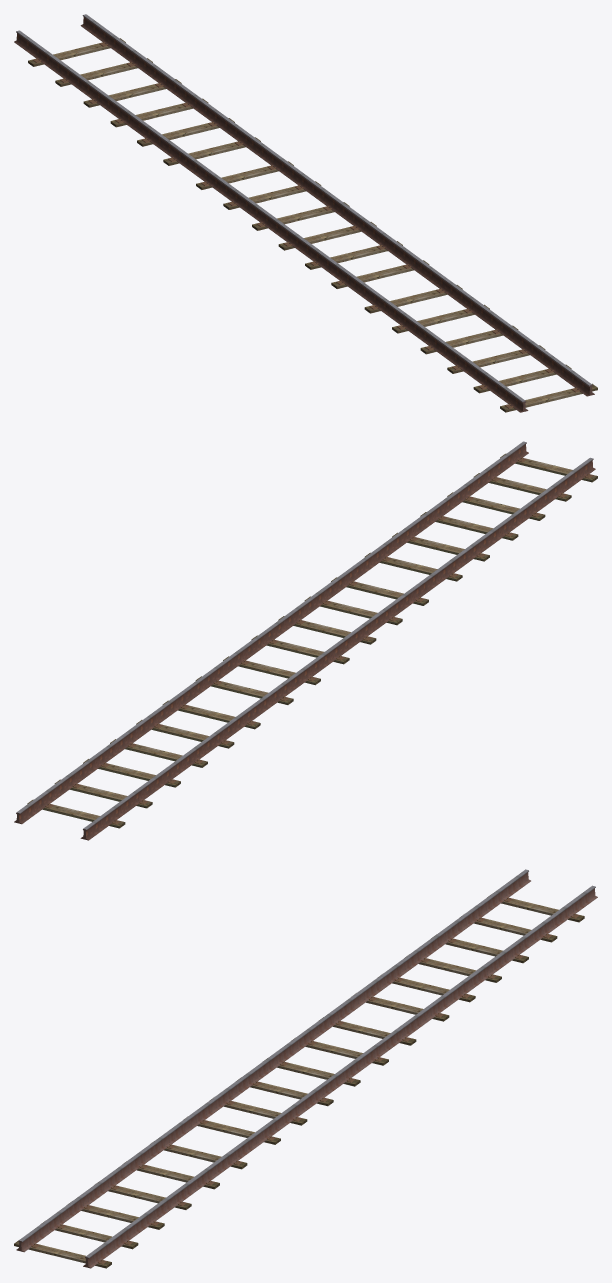
The model's file is track.obj.
3 renders of one model, top to bottom at view 1: azimuth 30°, elevation 25°; view 2: azimuth 150°, elevation 25°; view 3: azimuth 330°, elevation 25°, orthographic.
Visible parts, largest first — view 1: pasted__pasted__group1 pasted__group group2 pasted__pasted__slee, pasted__pasted__group1 pasted__group group2 pasted__pasted__line, pasted__pasted__line01 pasted__pasted__group1 pasted__group grou, line01 group1, group1 line02, pasted__line01 pasted__group1 group, pasted__group1 group pasted__line02; view 2: pasted__pasted__group1 pasted__group group2 pasted__pasted__slee, pasted__group1 group pasted__line02, pasted__line01 pasted__group1 group, group1 line02, line01 group1, pasted__pasted__group1 pasted__group group2 pasted__pasted__line, pasted__pasted__line01 pasted__pasted__group1 pasted__group grou; view 3: pasted__pasted__group1 pasted__group group2 pasted__pasted__slee, pasted__pasted__group1 pasted__group group2 pasted__pasted__line, pasted__pasted__line01 pasted__pasted__group1 pasted__group grou, line01 group1, group1 line02, pasted__group1 group pasted__line02, pasted__line01 pasted__group1 group.
Part boxes in pixels (left/top/right/bottom): pasted__pasted__group1 pasted__group group2 pasted__pasted__slee: left=364, top=285, right=597, bottom=412; pasted__pasted__group1 pasted__group group2 pasted__pasted__line: left=418, top=261, right=594, bottom=396; pasted__pasted__line01 pasted__pasted__group1 pasted__group grou: left=351, top=277, right=528, bottom=412; line01 group1: left=183, top=153, right=356, bottom=288; group1 line02: left=249, top=137, right=422, bottom=272; pasted__line01 pasted__group1 group: left=14, top=30, right=188, bottom=165; pasted__group1 group pasted__line02: left=80, top=14, right=254, bottom=148; pasted__pasted__group1 pasted__group group2 pasted__pasted__slee: left=365, top=453, right=597, bottom=581; pasted__group1 group pasted__line02: left=14, top=688, right=190, bottom=824; pasted__line01 pasted__group1 group: left=80, top=705, right=256, bottom=840; group1 line02: left=185, top=565, right=359, bottom=700; line01 group1: left=252, top=581, right=426, bottom=716; pasted__pasted__group1 pasted__group group2 pasted__pasted__line: left=355, top=441, right=528, bottom=576; pasted__pasted__line01 pasted__pasted__group1 pasted__group grou: left=421, top=457, right=595, bottom=592; pasted__pasted__group1 pasted__group group2 pasted__pasted__slee: left=14, top=1142, right=247, bottom=1268; pasted__pasted__group1 pasted__group group2 pasted__pasted__line: left=83, top=1133, right=260, bottom=1268; pasted__pasted__line01 pasted__pasted__group1 pasted__group grou: left=16, top=1117, right=193, bottom=1252; line01 group1: left=188, top=992, right=362, bottom=1128; group1 line02: left=254, top=1009, right=429, bottom=1144; pasted__group1 group pasted__line02: left=423, top=885, right=597, bottom=1021; pasted__line01 pasted__group1 group: left=357, top=869, right=530, bottom=1003.
Bounding box in the file's own units: 11.3 × 1.48 × 107.
